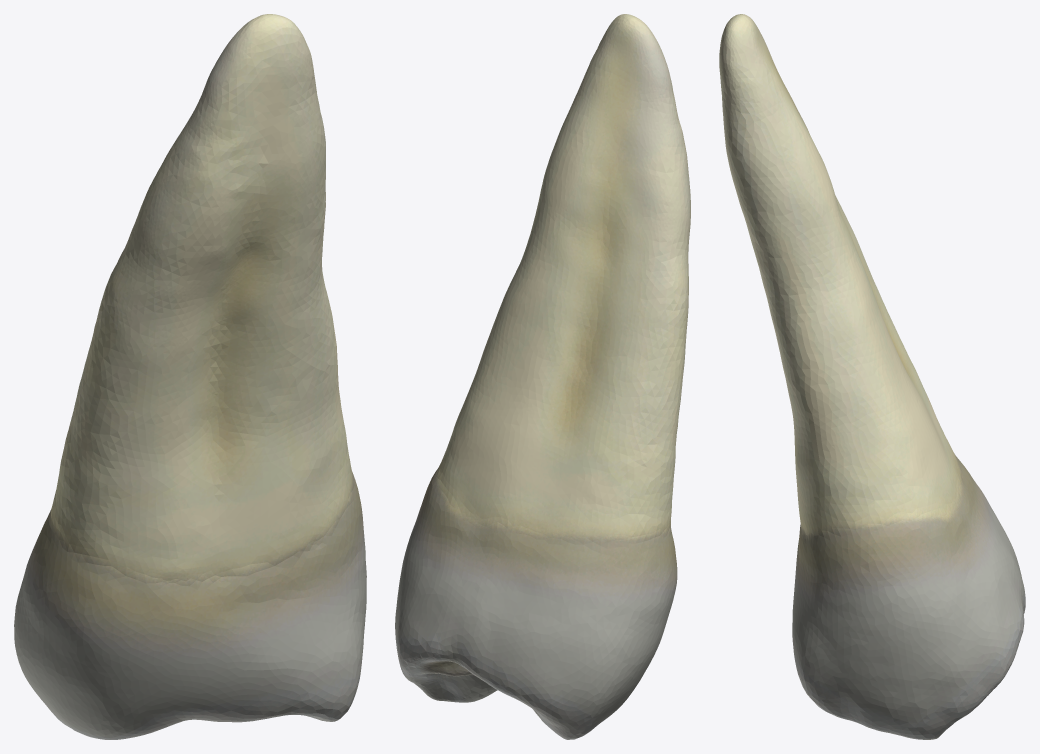
3 renders of one model, left to right at view 1: azimuth 30°, elevation 25°; view 2: azimuth 150°, elevation 25°; view 3: azimuth 270°, elevation 25°, orthographic. The views are drawn at different scales.
Visible parts, largest first — view 1: 3MFMeshParent_0; view 2: 3MFMeshParent_0; view 3: 3MFMeshParent_0.
Part boxes in pixels (<box>): 3MFMeshParent_0: <box>14,14,366,739</box>; 3MFMeshParent_0: <box>395,14,690,739</box>; 3MFMeshParent_0: <box>719,14,1025,739</box>.
Bounding box in the file's own units: 0.2089 × 0.512 × 0.2121.
Materials: 1 (1 with a texture image).
